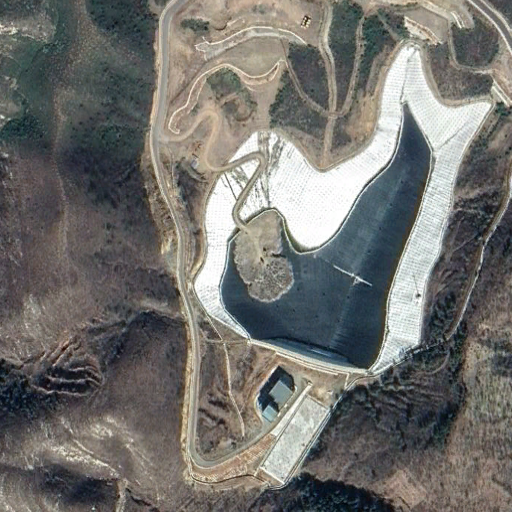lf: (195, 42, 491, 378)
